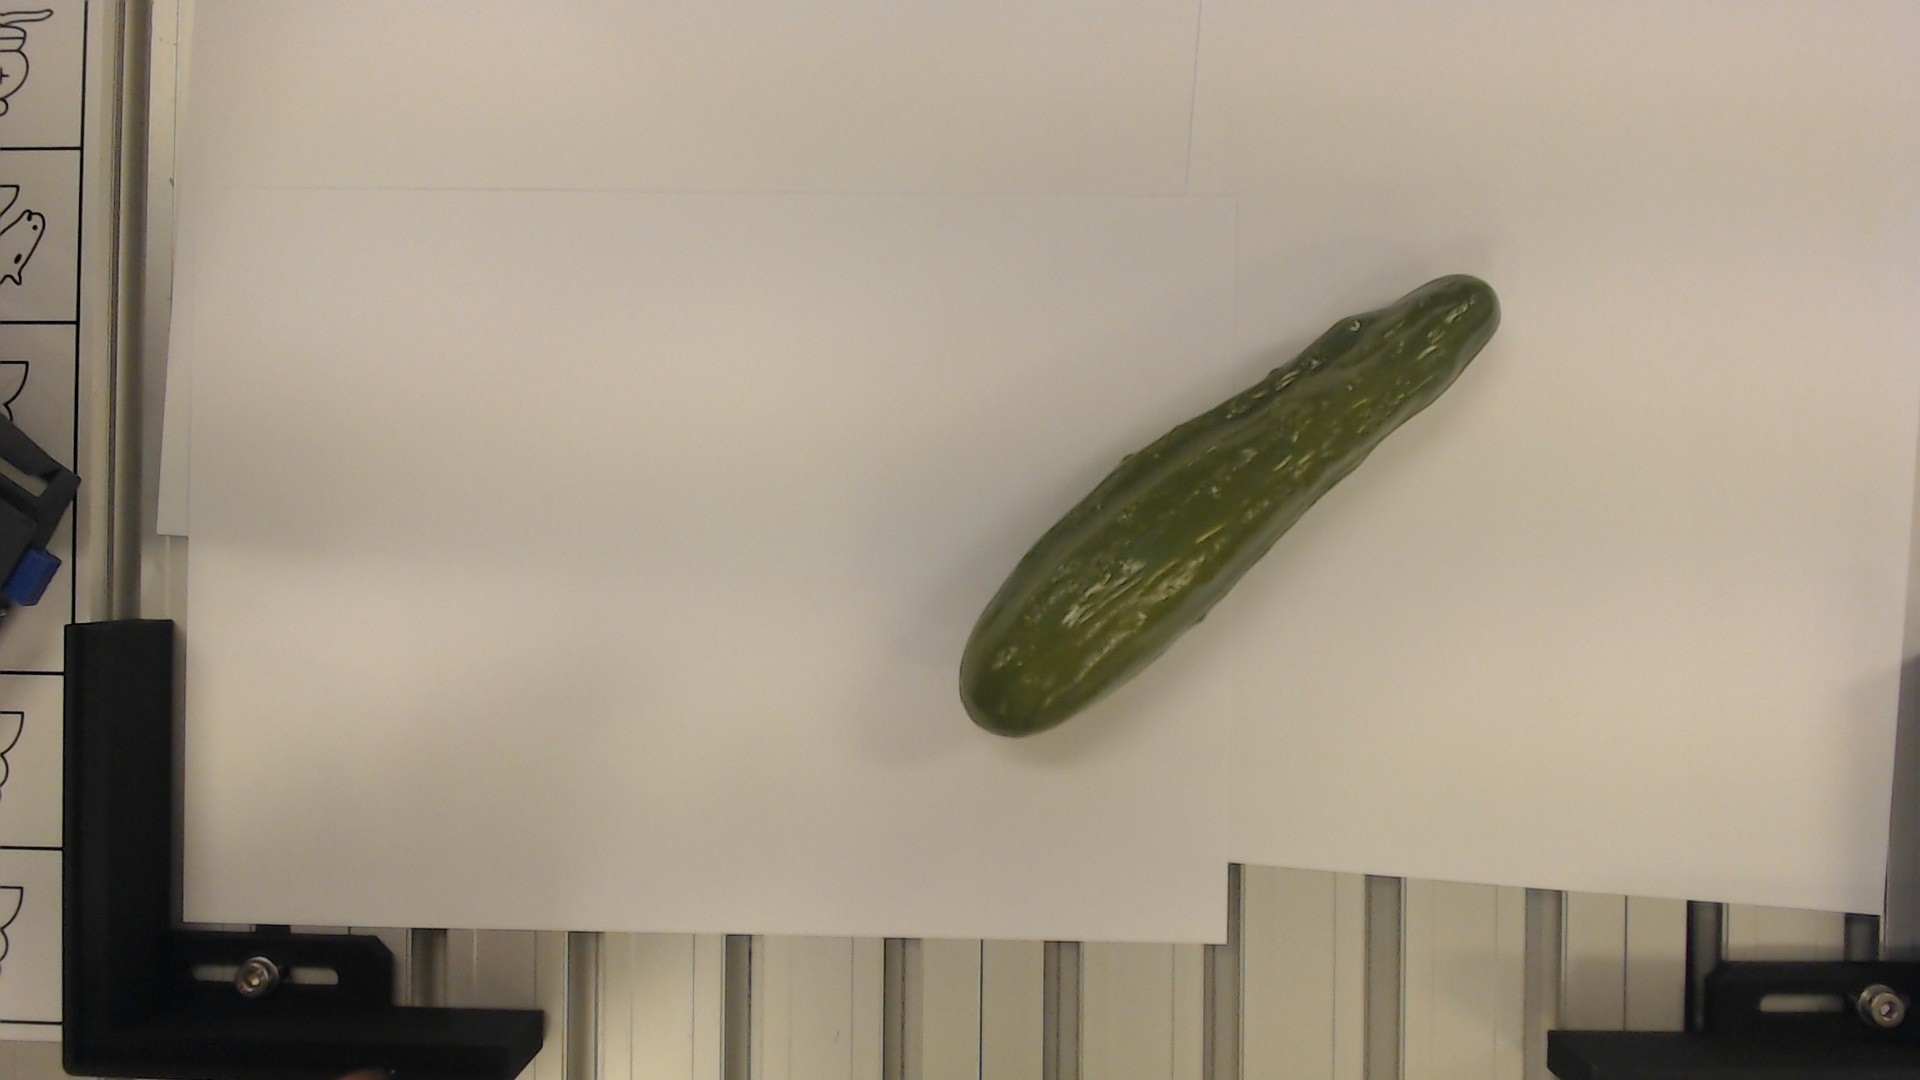Cucumber: (953, 269, 1507, 738)
